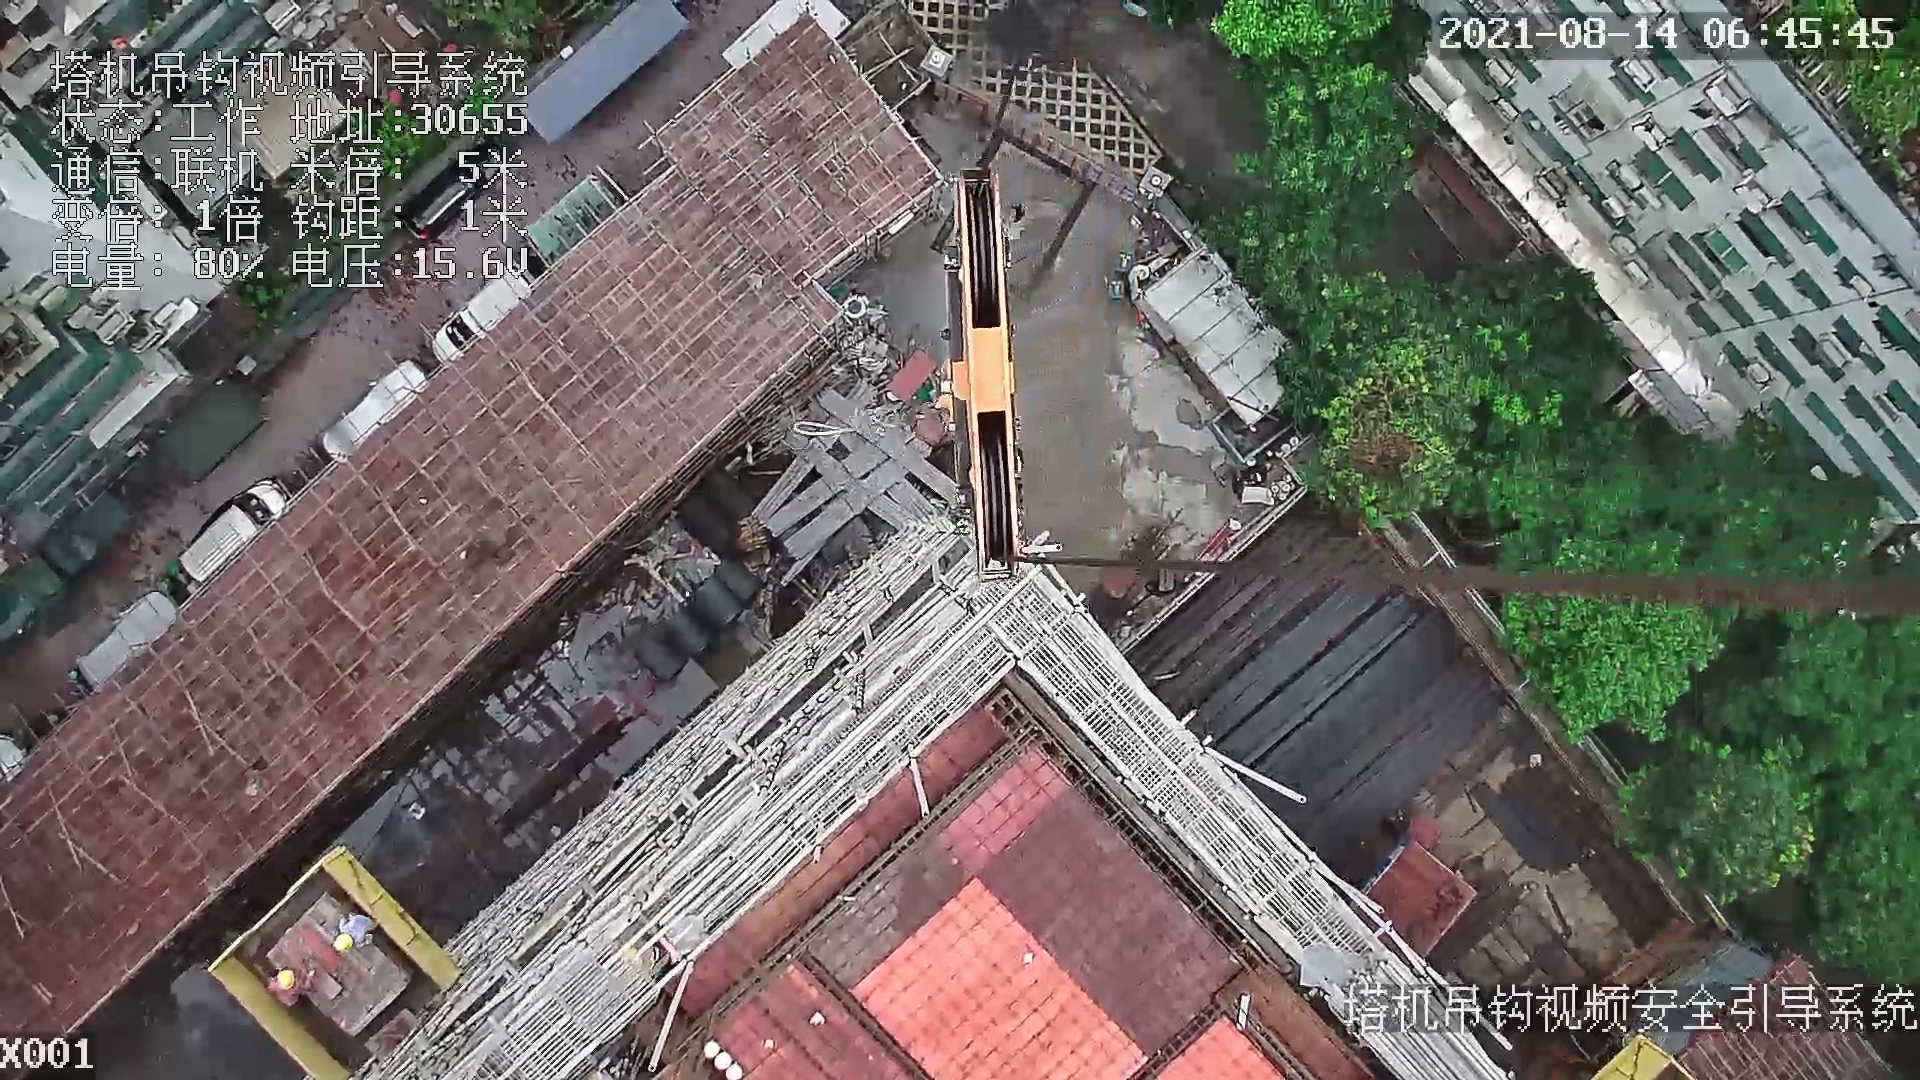helmet: (275, 971, 297, 990), (334, 934, 355, 950)
hook: (914, 163, 1046, 578)
person: (258, 963, 318, 1005), (331, 910, 374, 956)
